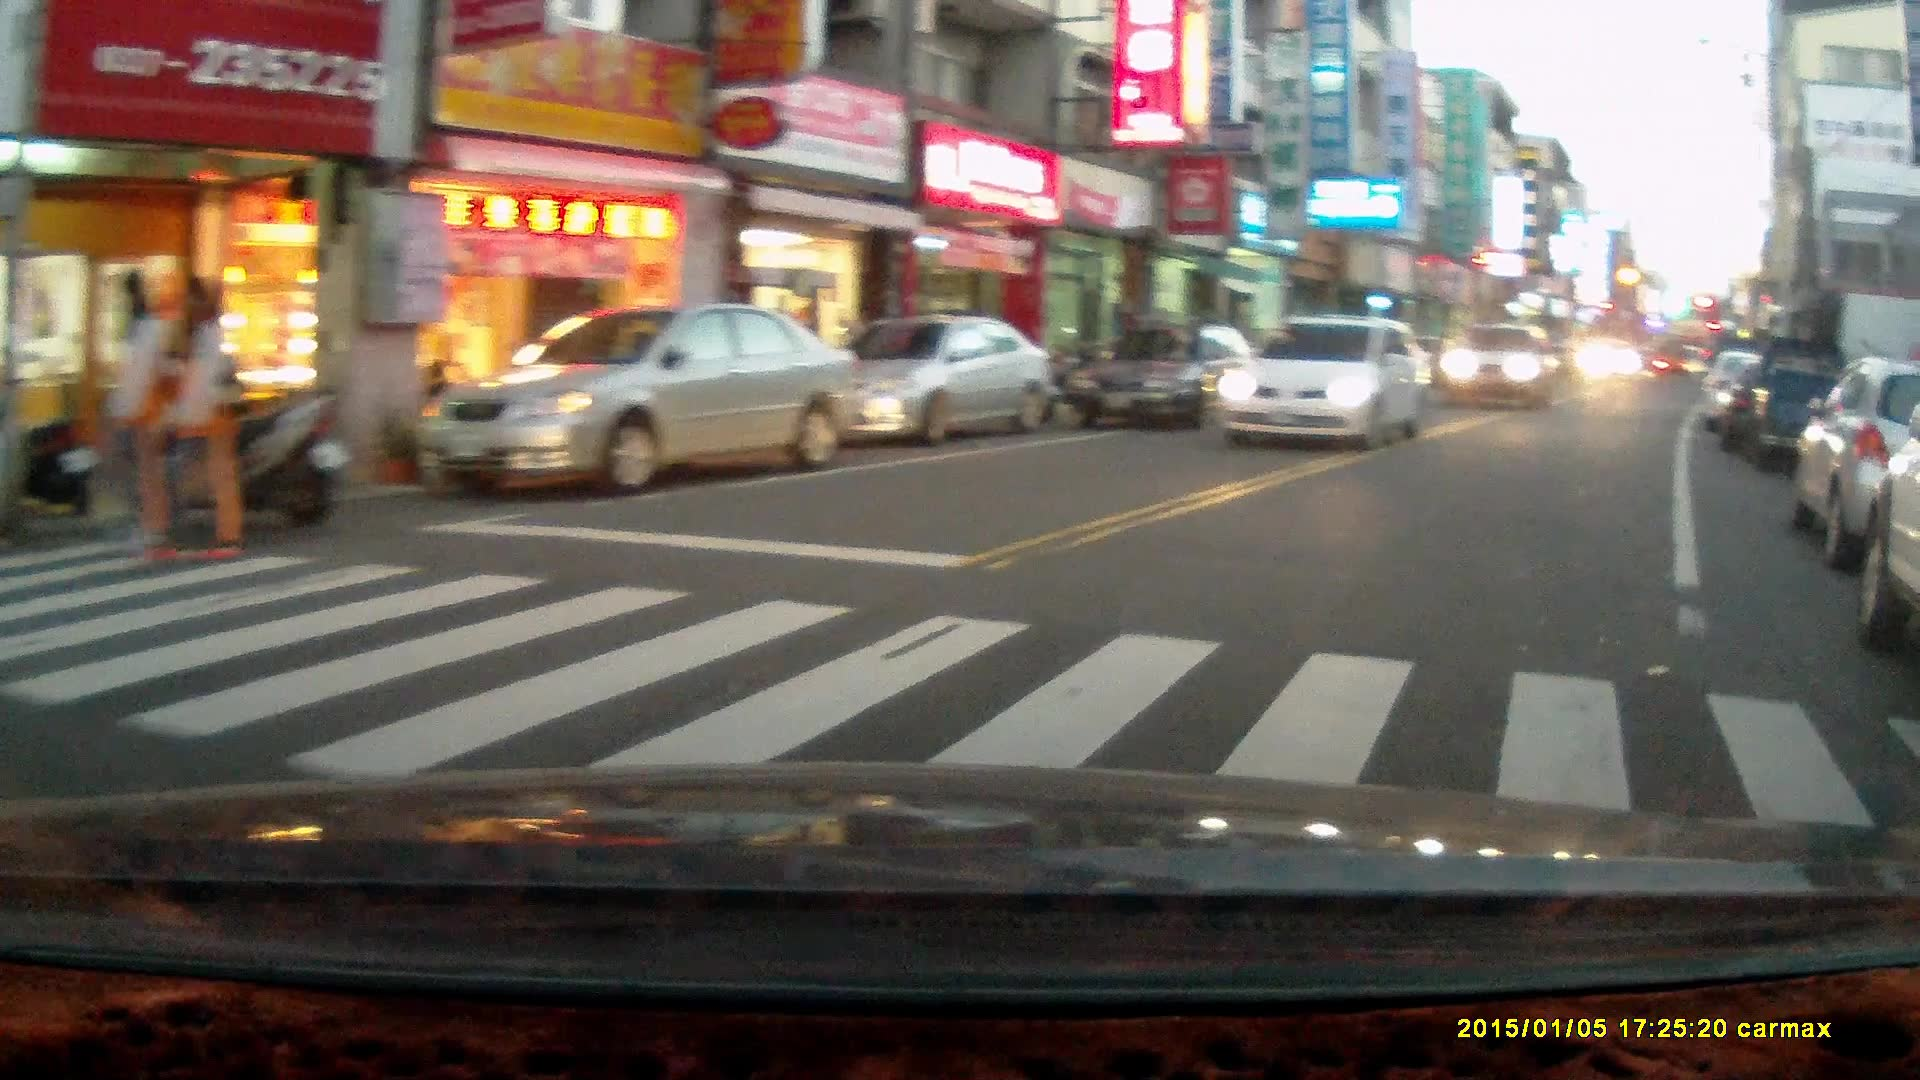pedestrian: (130, 276, 263, 569), (87, 269, 176, 560)
vehicle: (416, 298, 863, 497), (792, 314, 1054, 440), (1215, 309, 1436, 454), (1790, 347, 1920, 564), (1725, 332, 1881, 479), (1073, 323, 1268, 435), (1428, 322, 1563, 411), (1575, 335, 1637, 388)
